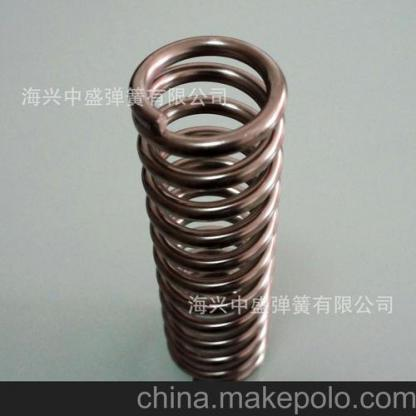FOD: (126, 31, 290, 387)
